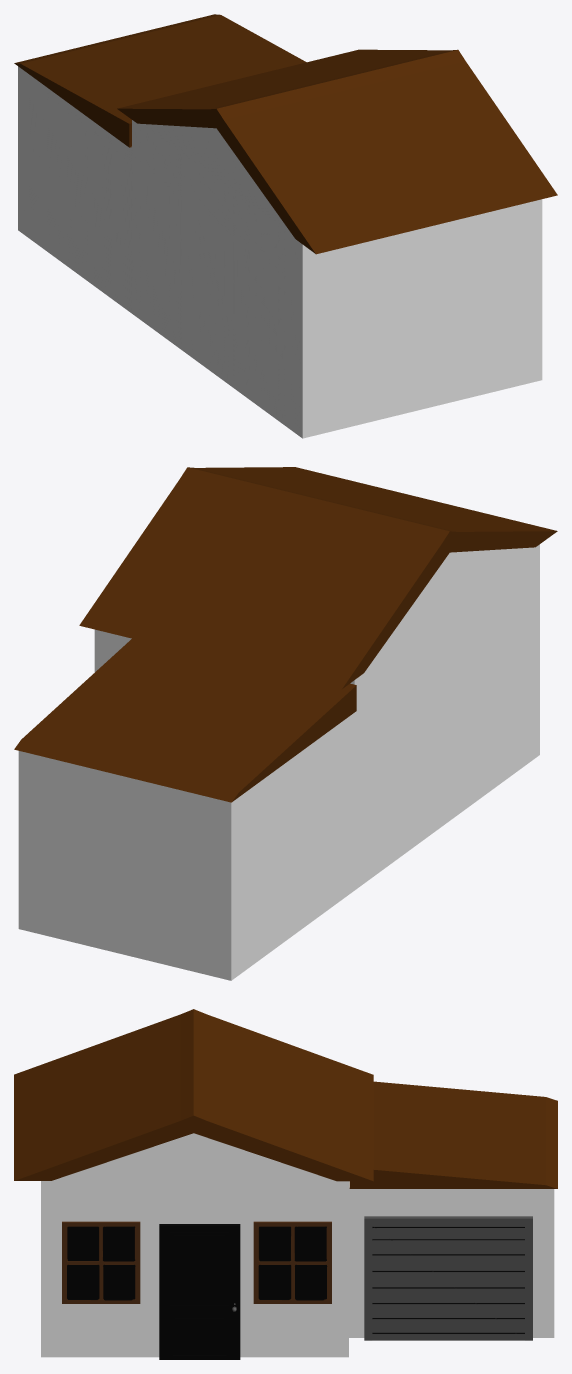
Rendered from house4.glb.
3 views of the same model, one above another, from view 1: azimuth 30°, elevation 25°; view 2: azimuth 150°, elevation 25°; view 3: azimuth 270°, elevation 25° (orthographic). The views are drawn at different scales.
Visible parts, largest first — view 1: Cube.001, Cube.006, Cube.007, Cube.008, Cube.002; view 2: Cube.001, Cube.007, Cube.011, Cube.002, Cube.008, Cube.013; view 3: Cube.001, Cube.005, Cube.010, Cube.002, Cube.009, Cube.012, Cube.003, Cube.004.
Boxes of the visible parts, <box> form: Cube.001: <box>117,49,557,254</box>; Cube.006: <box>302,199,542,438</box>; Cube.007: <box>132,120,302,438</box>; Cube.008: <box>18,66,131,313</box>; Cube.002: <box>14,14,306,147</box>; Cube.001: <box>79,467,557,689</box>; Cube.007: <box>354,544,539,890</box>; Cube.011: <box>18,751,231,980</box>; Cube.002: <box>14,638,356,802</box>; Cube.008: <box>231,713,354,980</box>; Cube.013: <box>94,629,354,684</box>; Cube.001: <box>14,1009,373,1181</box>; Cube.005: <box>41,1133,348,1357</box>; Cube.010: <box>364,1216,532,1340</box>; Cube.002: <box>349,1081,557,1188</box>; Cube.009: <box>159,1224,240,1359</box>; Cube.012: <box>349,1187,554,1337</box>; Cube.003: <box>62,1221,140,1303</box>; Cube.004: <box>253,1221,331,1303</box>.
Size of the model in its own units: 27.4 by 28.11 by 57.1.
Materials: 8 (6 with a texture image).
